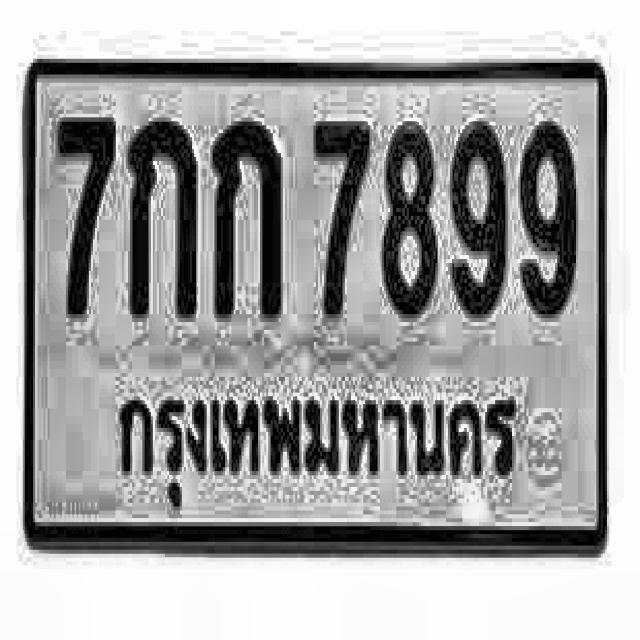license-plate: (17, 42, 618, 580)
